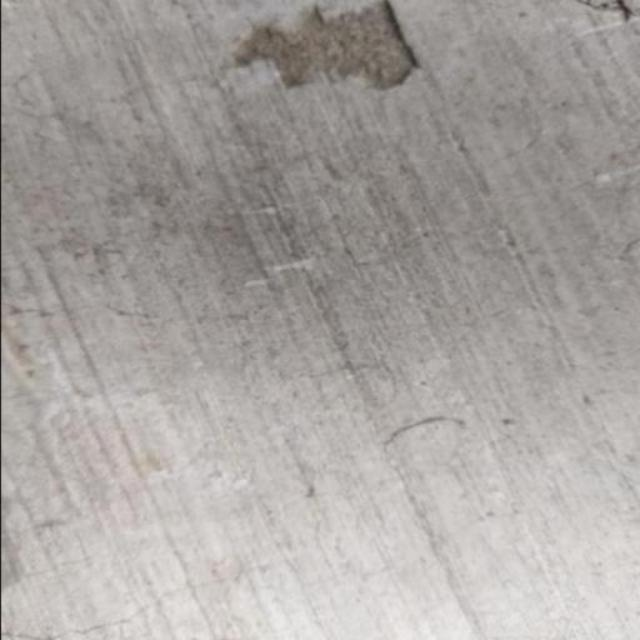D10: (238, 2, 421, 93)
